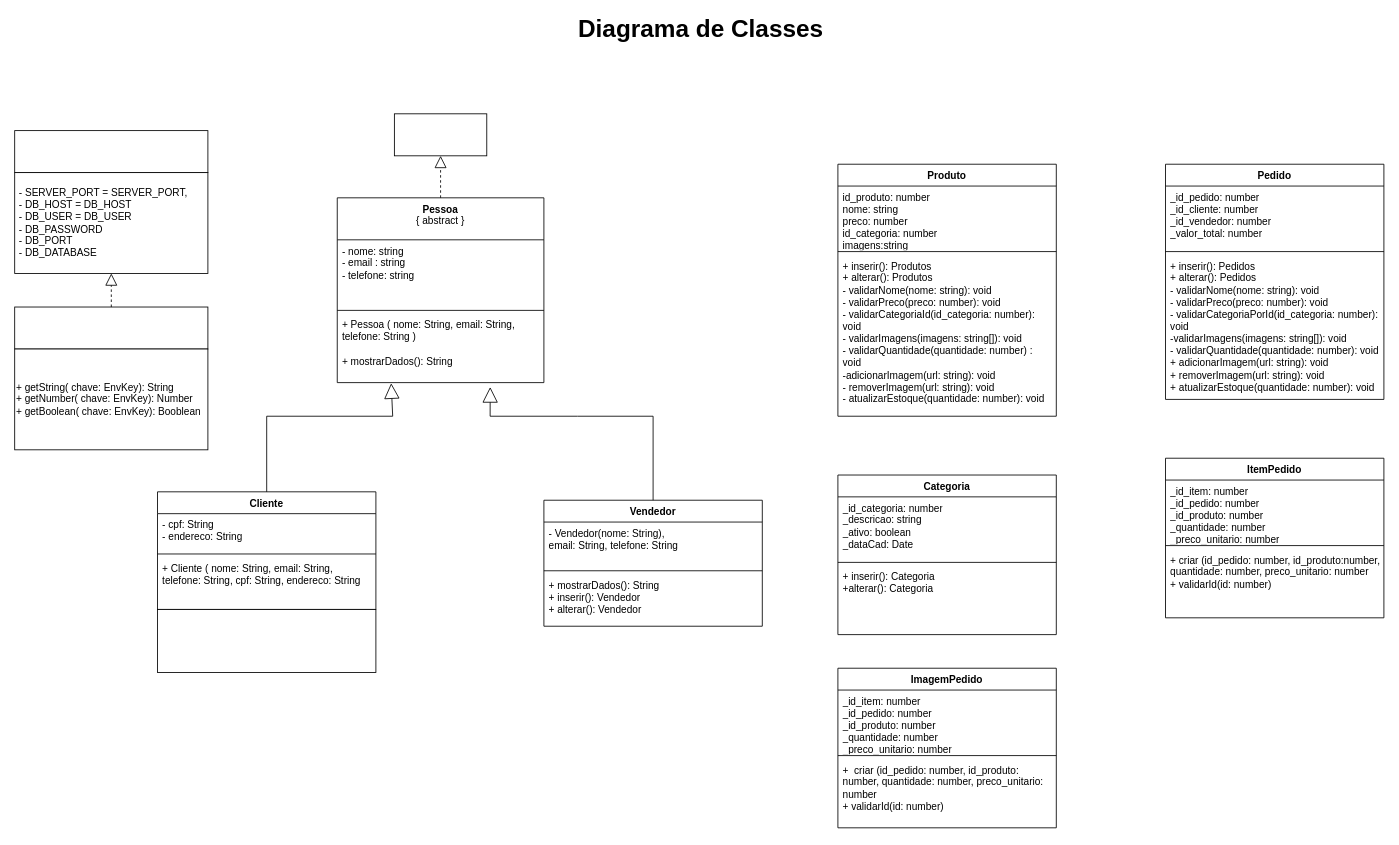
Some shapes in this 1399 by 845 pixel diagram are drawn without their labels. The shapes that lost their labels are listed below. From the top down, each one's centre as x and y in pixels, then its label:
At pixel 111 151: "«enum» EnvKey".
At pixel 440 134: "«interface» IPessoa".
At pixel 111 327: "EnvVar".
At pixel 266 640: "+ mostrarDados(): String + inserir(): Cliente + alterar(): Cliente".
